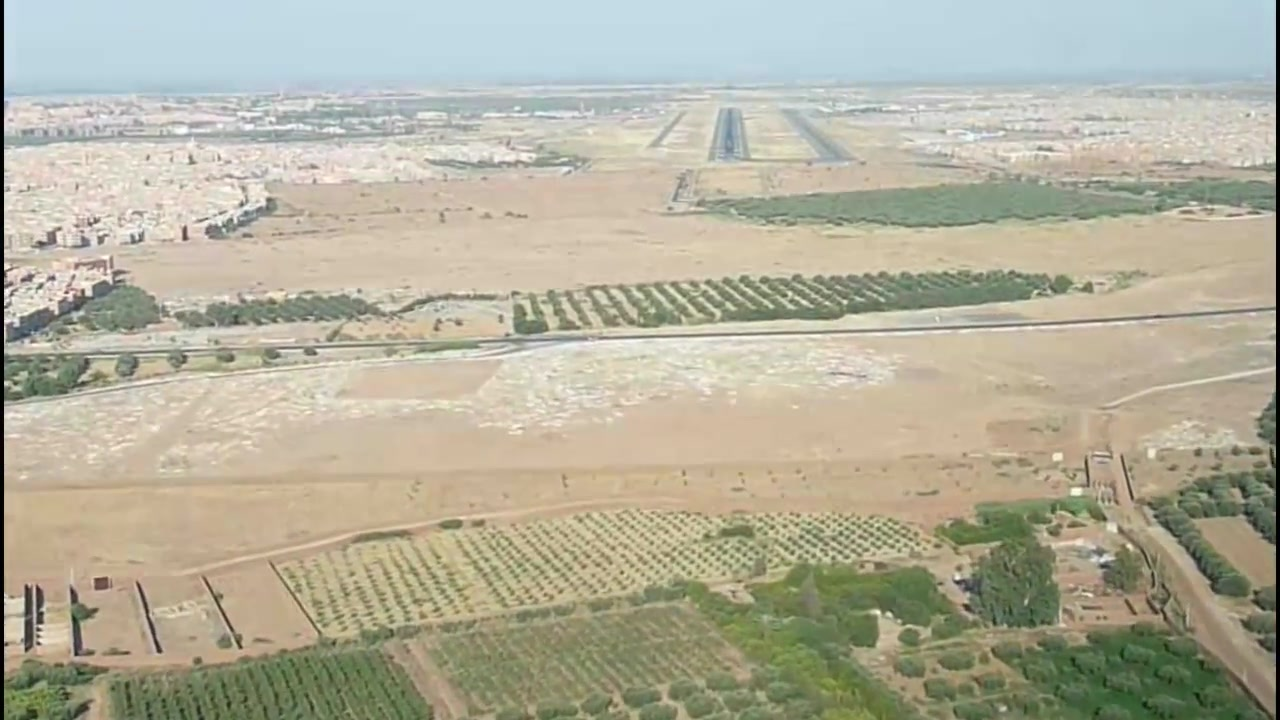runway: (707, 109, 748, 166)
